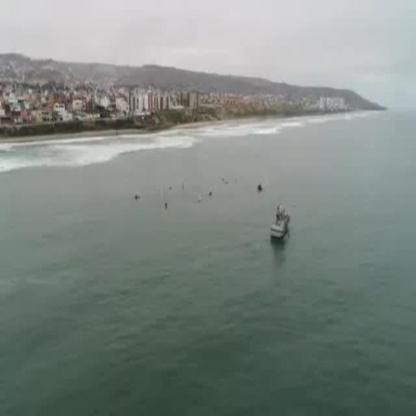Boat: (268, 210, 292, 240)
